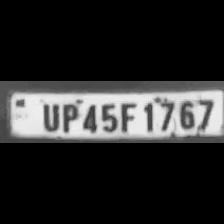1: (138, 100, 156, 132)
4: (78, 100, 98, 132)
5: (97, 100, 117, 132)
6: (174, 98, 196, 130)
7: (154, 98, 176, 132), (194, 97, 214, 130)
F: (118, 100, 138, 132)
P: (58, 100, 78, 132)
U: (38, 100, 60, 132)
